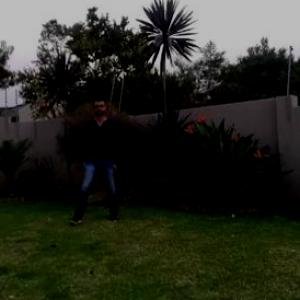follow: (82, 84, 123, 221)
